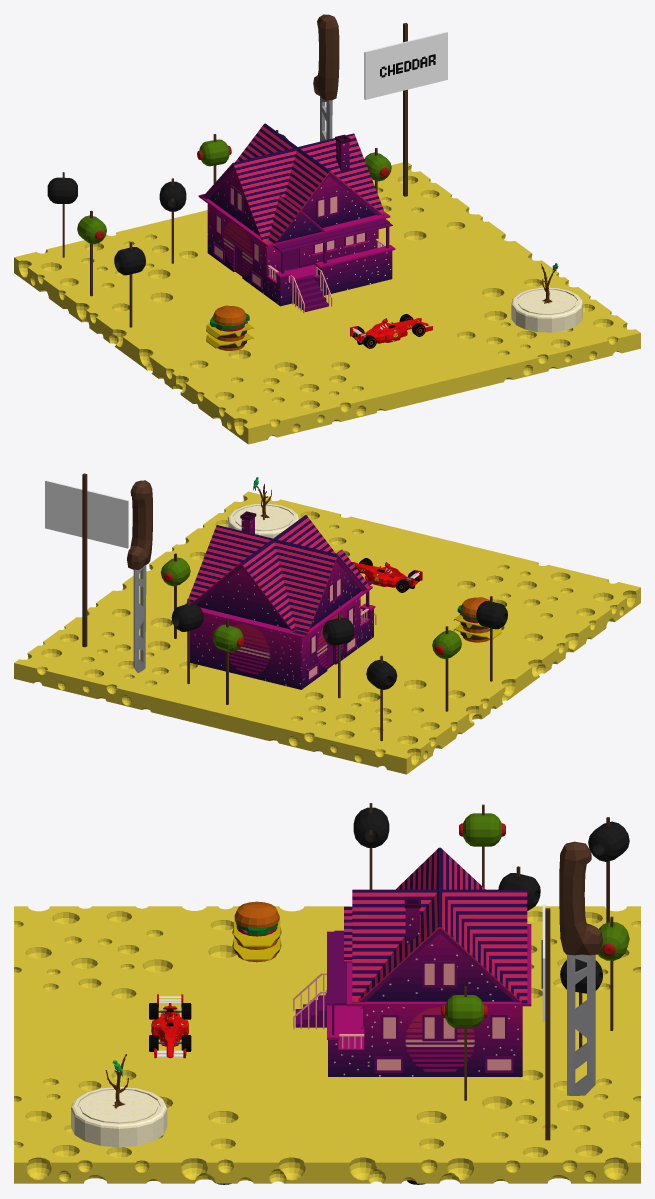
3 views of the same model, one above another, from view 1: azimuth 30°, elevation 25°; view 2: azimuth 150°, elevation 25°; view 3: azimuth 270°, elevation 25° (orthographic). The views are drawn at different scales.
Parts seen in each view (by area): view 1: Cube.022, Cube.156, Cube.023, Cylinder.016, Cube.024, OBJRANDOM_HAMBURGER, VEHICLES_FORMULA_1, Sphere.017, Sphere.016, Sphere.020, Sphere.018, Sphere.022 (+1 smaller); view 2: Cube.022, Cube.156, Cube.023, Cube.024, Cylinder.016, VEHICLES_FORMULA_1, OBJRANDOM_HAMBURGER, Sphere.017, Sphere.020, Sphere.021, Sphere.016, Sphere.018 (+2 smaller); view 3: Cube.022, Cube.156, Cube.024, Cylinder.016, OBJRANDOM_HAMBURGER, VEHICLES_FORMULA_1, Cube.023, Sphere.019, Sphere.016, Sphere.018, Sphere.017, Sphere.022 (+2 smaller).
Boxes of the visible parts, x1=… form: Cube.022: x1=14, y1=162, x2=640, y2=444; Cube.156: x1=198, y1=123, x2=395, y2=313; Cube.023: x1=364, y1=23, x2=447, y2=196; Cylinder.016: x1=511, y1=287, x2=582, y2=332; Cube.024: x1=313, y1=14, x2=339, y2=141; OBJRANDOM_HAMBURGER: x1=206, y1=305, x2=253, y2=350; VEHICLES_FORMULA_1: x1=350, y1=314, x2=432, y2=348; Sphere.017: x1=114, y1=242, x2=145, y2=327; Sphere.016: x1=47, y1=172, x2=77, y2=257; Sphere.020: x1=159, y1=178, x2=186, y2=263; Sphere.018: x1=77, y1=210, x2=106, y2=296; Sphere.022: x1=197, y1=134, x2=231, y2=183; Cube.022: x1=14, y1=491, x2=640, y2=774; Cube.156: x1=185, y1=511, x2=376, y2=689; Cube.023: x1=45, y1=473, x2=128, y2=647; Cube.024: x1=127, y1=480, x2=152, y2=672; Cylinder.016: x1=228, y1=503, x2=298, y2=538; VEHICLES_FORMULA_1: x1=352, y1=558, x2=422, y2=592; OBJRANDOM_HAMBURGER: x1=453, y1=597, x2=501, y2=642; Sphere.017: x1=476, y1=596, x2=507, y2=681; Sphere.020: x1=322, y1=612, x2=354, y2=698; Sphere.021: x1=171, y1=598, x2=203, y2=683; Sphere.016: x1=366, y1=655, x2=397, y2=741; Sphere.018: x1=432, y1=626, x2=461, y2=711; Cube.022: x1=14, y1=906, x2=640, y2=1183; Cube.156: x1=293, y1=847, x2=531, y2=1076; Cube.024: x1=559, y1=841, x2=602, y2=1095; Cylinder.016: x1=71, y1=1087, x2=167, y2=1147; OBJRANDOM_HAMBURGER: x1=232, y1=901, x2=281, y2=962; VEHICLES_FORMULA_1: x1=149, y1=994, x2=191, y2=1058; Cube.023: x1=541, y1=904, x2=550, y2=1140; Sphere.019: x1=441, y1=986, x2=487, y2=1100; Sphere.016: x1=588, y1=817, x2=629, y2=922; Sphere.018: x1=459, y1=804, x2=505, y2=887; Sphere.017: x1=353, y1=803, x2=389, y2=889; Sphere.022: x1=598, y1=916, x2=629, y2=1030.
Size of the model in its own units: 3917 by 1985 by 4000.
Materials: 43 (5 with a texture image).
